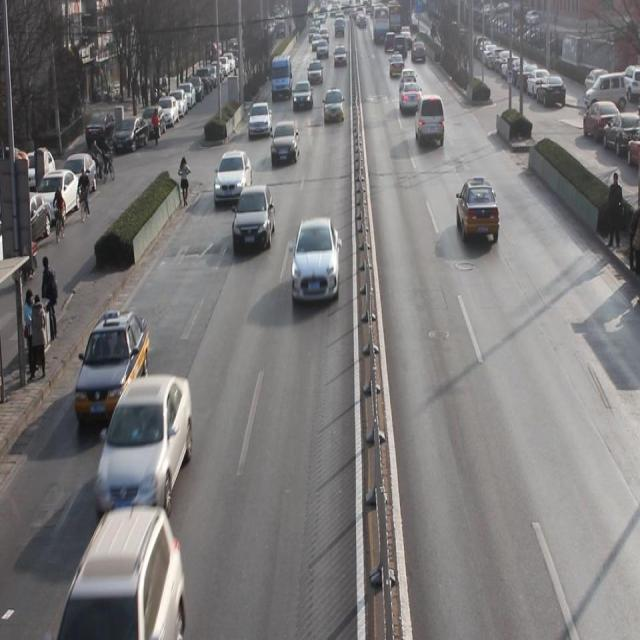car: (55, 514, 184, 640), (102, 379, 191, 511), (78, 313, 147, 415), (292, 217, 340, 306), (456, 176, 499, 247), (234, 185, 277, 254), (212, 149, 254, 204), (271, 122, 300, 166), (247, 98, 273, 139), (399, 74, 422, 112), (323, 88, 344, 125), (293, 78, 315, 110), (307, 58, 324, 85)
truck: (415, 91, 446, 148), (272, 52, 294, 100)
